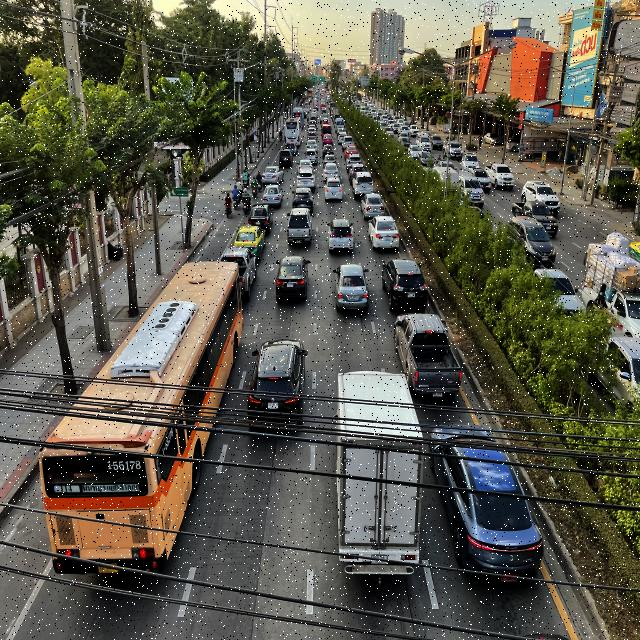bus: (25, 257, 245, 585)
truck: (334, 366, 427, 588)
